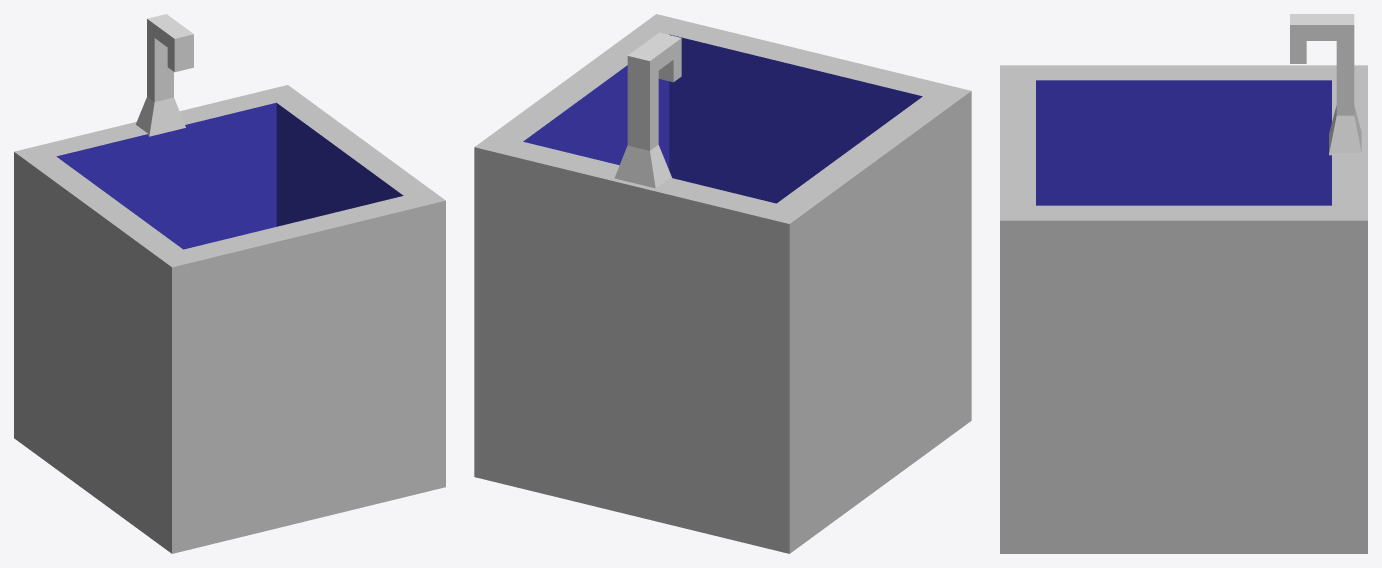
Rendered from Sink (1).fbx.
3 views of the same model, side by side, from view 1: azimuth 30°, elevation 25°; view 2: azimuth 150°, elevation 25°; view 3: azimuth 270°, elevation 25° (orthographic). The views are drawn at different scales.
Visible parts, largest first — view 1: Cube, Cube.001; view 2: Cube, Cube.001; view 3: Cube, Cube.001.
Part boxes in pixels (x1,y1,x2,y2): Cube: (14,85,445,553); Cube.001: (136,14,193,136); Cube: (474,14,971,553); Cube.001: (614,32,681,188); Cube: (1000,65,1367,553); Cube.001: (1290,14,1361,155).
Bounding box in the file's own units: 200 × 274 × 200.
